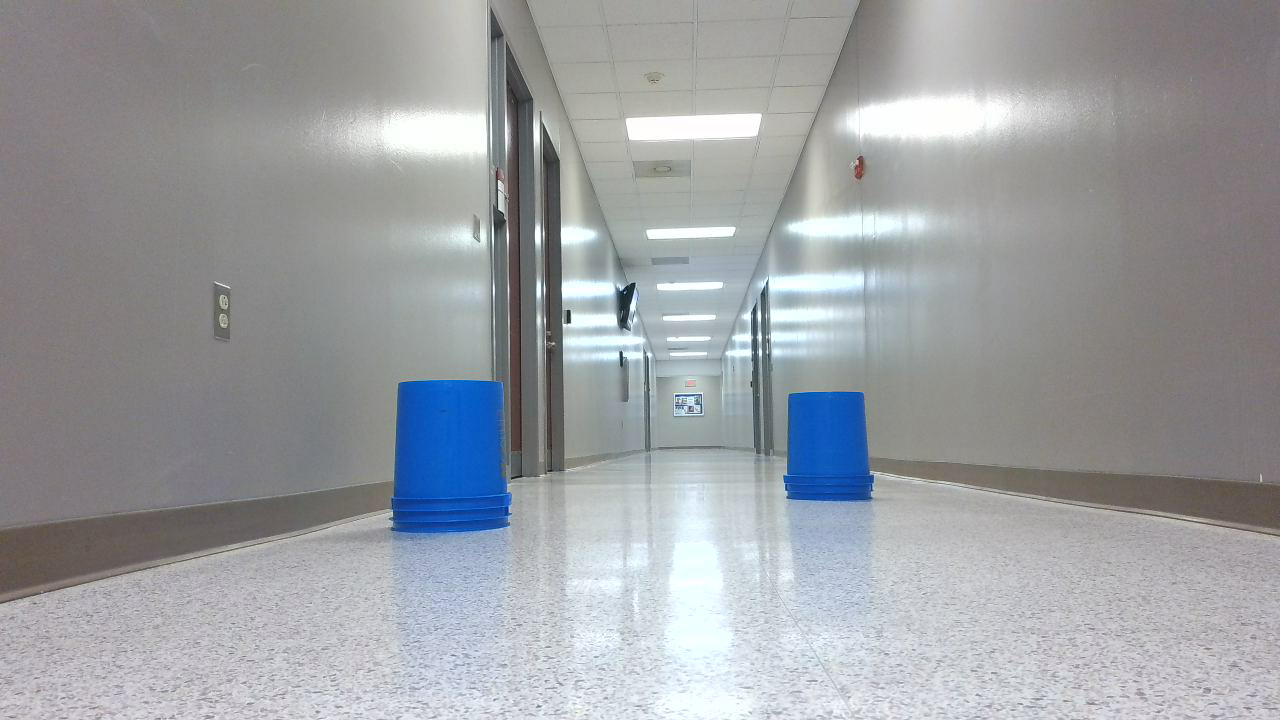blue_bucket: (396, 385, 519, 540), (786, 395, 881, 507)
